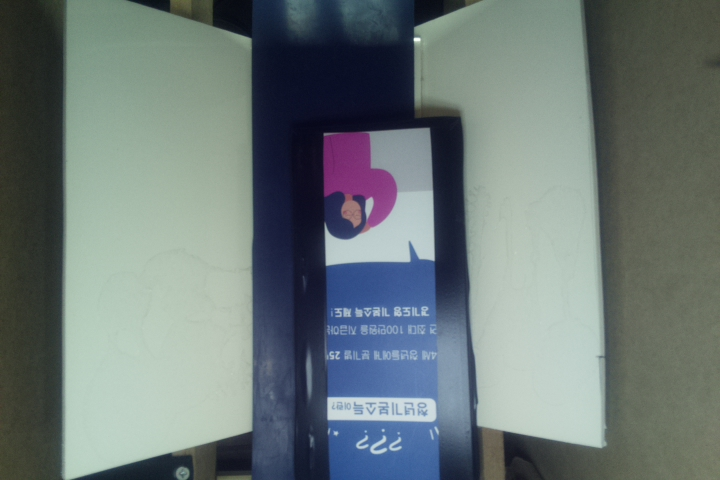book: (292, 116, 474, 480)
